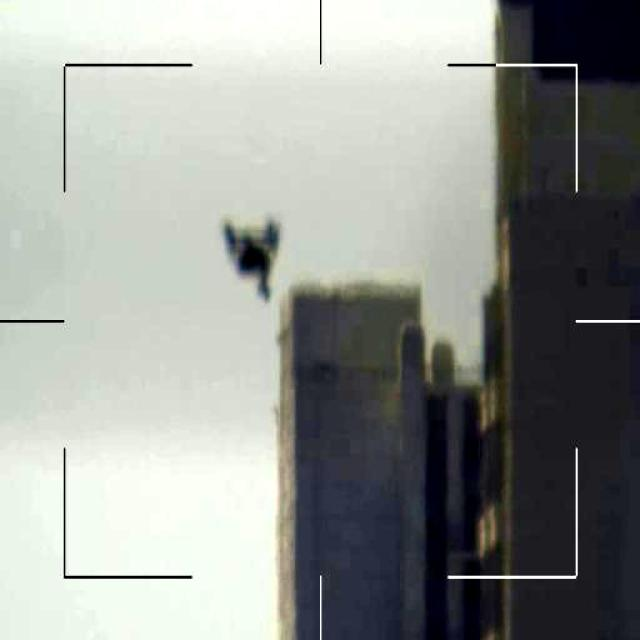bird: (212, 215, 282, 304)
